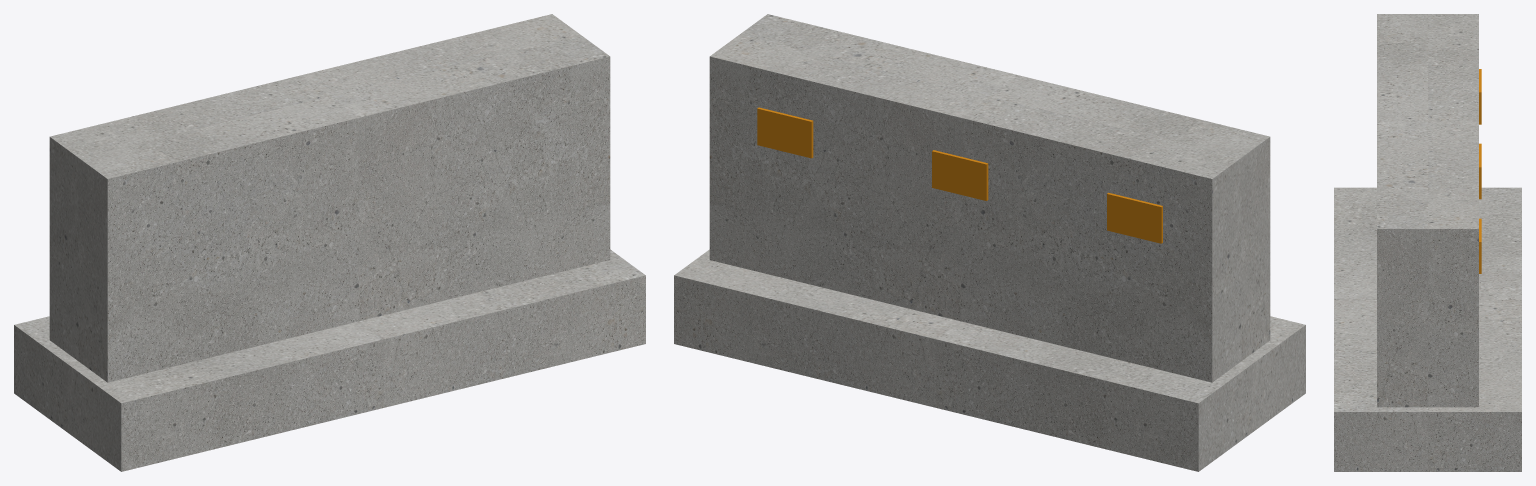
Rendered from concrete_barrier.obj.
3 views of the same model, side by side, from view 1: azimuth 30°, elevation 25°; view 2: azimuth 150°, elevation 25°; view 3: azimuth 270°, elevation 25° (orthographic). The views are drawn at different scales.
Parts seen in each view (by area): view 1: Concrete; view 2: Concrete, Yellow_Paint; view 3: Concrete, Yellow_Paint.
Part boxes in pixels (bbox=[...]): Concrete: bbox=[14, 14, 645, 471]; Concrete: bbox=[674, 14, 1305, 471]; Yellow_Paint: bbox=[757, 107, 1162, 243]; Concrete: bbox=[1334, 14, 1521, 471]; Yellow_Paint: bbox=[1479, 69, 1481, 273].
Bounding box in the file's own units: 2.4 × 1.19 × 0.85.
